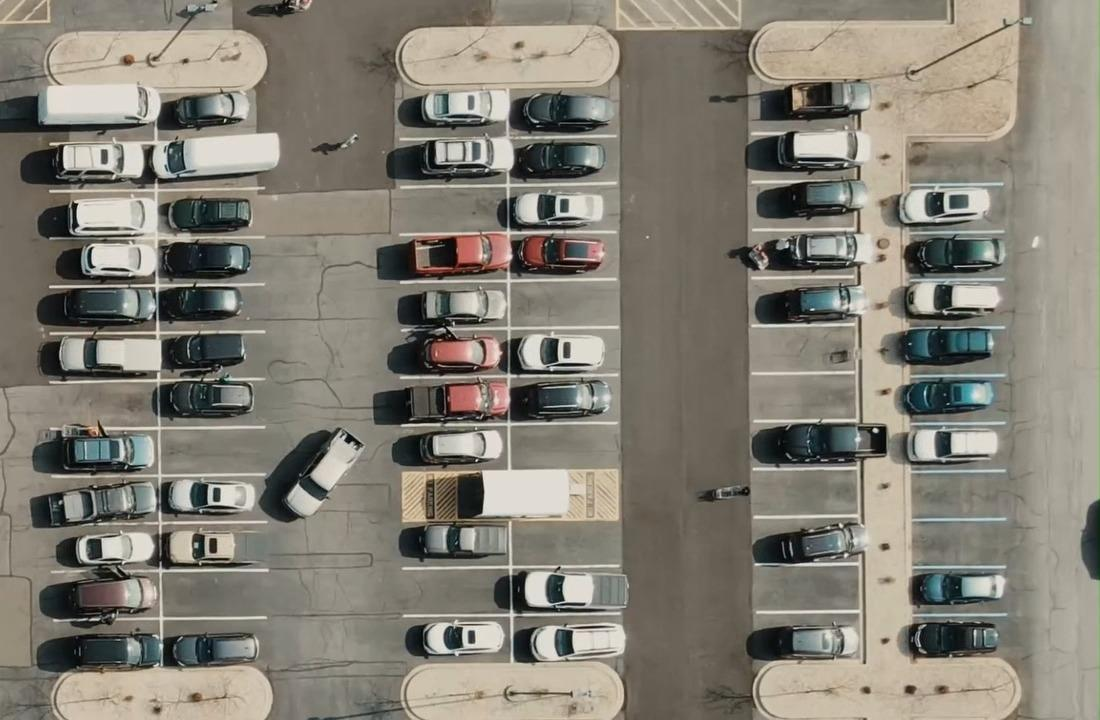car: (280, 426, 365, 519), (148, 131, 281, 181), (751, 419, 887, 466), (493, 567, 629, 612), (40, 420, 154, 473), (36, 82, 161, 127), (46, 479, 157, 526), (752, 520, 869, 564), (408, 231, 512, 277), (402, 379, 510, 423), (55, 334, 161, 378), (755, 178, 868, 219), (513, 621, 626, 662), (754, 283, 867, 324), (746, 621, 859, 661), (49, 139, 146, 183), (511, 378, 612, 420), (418, 134, 509, 180), (775, 128, 871, 171), (497, 191, 604, 229), (520, 90, 614, 132), (905, 234, 1006, 273), (156, 378, 253, 418), (62, 285, 156, 326), (904, 281, 1001, 320), (897, 185, 991, 225), (515, 234, 605, 275), (67, 574, 157, 615), (899, 326, 994, 364), (415, 331, 503, 372), (513, 140, 605, 179), (419, 87, 508, 127), (515, 333, 605, 372), (908, 619, 999, 657), (905, 427, 998, 464), (161, 240, 251, 278), (163, 477, 252, 515), (901, 378, 994, 414), (784, 80, 871, 118), (416, 523, 507, 559), (417, 428, 503, 466), (157, 284, 243, 322), (66, 196, 147, 236), (169, 631, 259, 667), (417, 620, 504, 657), (419, 287, 506, 324), (166, 196, 251, 233), (172, 89, 250, 129), (916, 571, 1005, 605), (73, 530, 157, 566), (166, 332, 245, 369), (79, 241, 156, 278)
